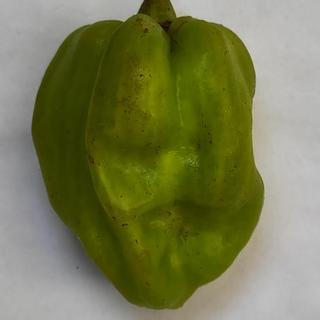Grade-A: (22, 8, 270, 312)
